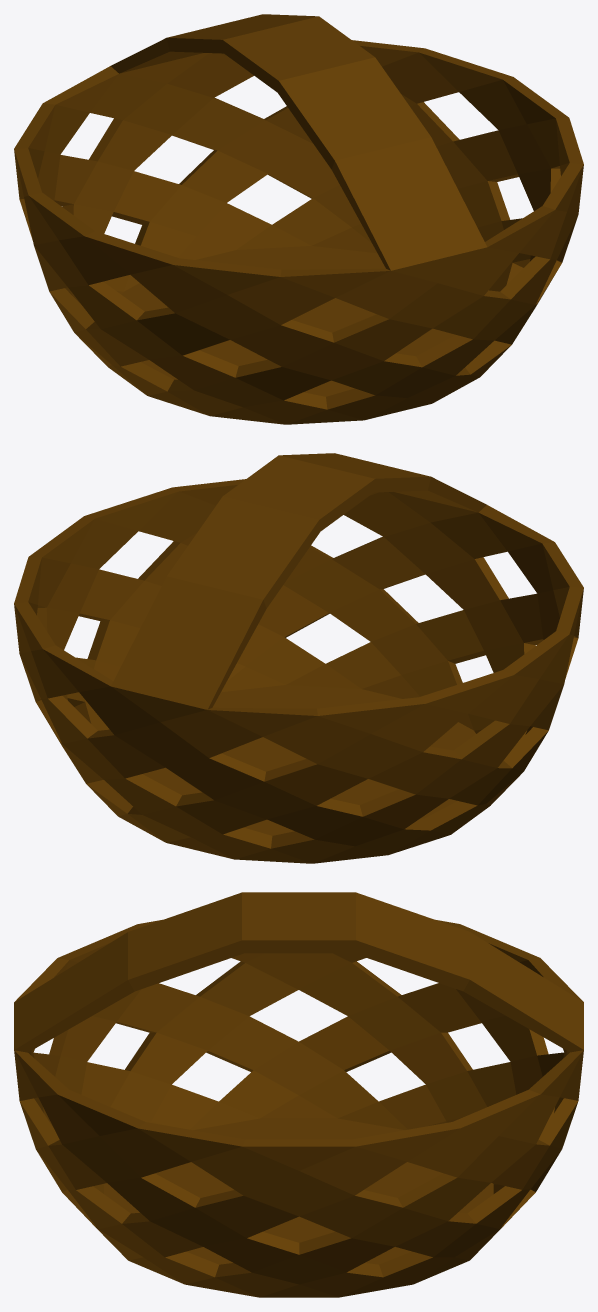
The model's file is Canasto.glb.
3 views of the same model, one above another, from view 1: azimuth 30°, elevation 25°; view 2: azimuth 150°, elevation 25°; view 3: azimuth 270°, elevation 25° (orthographic).
Visible parts, largest first — view 1: Sphere; view 2: Sphere; view 3: Sphere.
Boxes of the visible parts, x1,y1,x2,y2 form: Sphere: (14, 14, 583, 424); Sphere: (14, 453, 583, 863); Sphere: (14, 892, 583, 1297).
Bounding box in the file's own units: 1.96 × 1.12 × 1.96.
